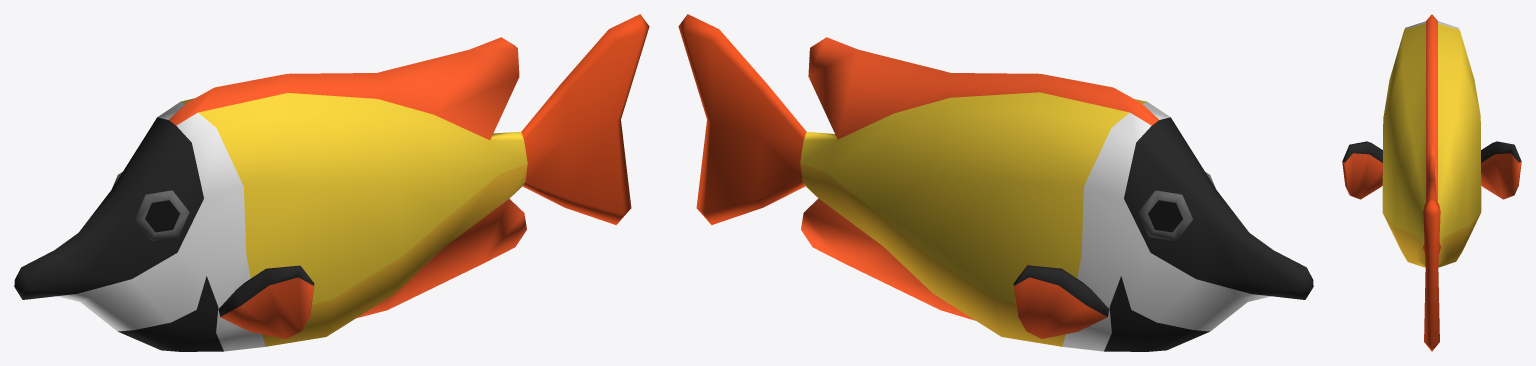
The model's file is Fish_019.glb.
The picture shows the model from 3 angles, left to right: view 1: azimuth 30°, elevation 25°; view 2: azimuth 150°, elevation 25°; view 3: azimuth 270°, elevation 25°; orthographic projection. The views are drawn at different scales.
Visible parts, largest first — view 1: Fish_019; view 2: Fish_019; view 3: Fish_019.
Boxes of the visible parts, x1,y1,x2,y2 form: Fish_019: (14,14,649,351); Fish_019: (678,14,1313,351); Fish_019: (1342,14,1521,351).
Bounding box in the file's own units: 0.6468 × 0.2585 × 0.2045.
1 material, 1 textured.
